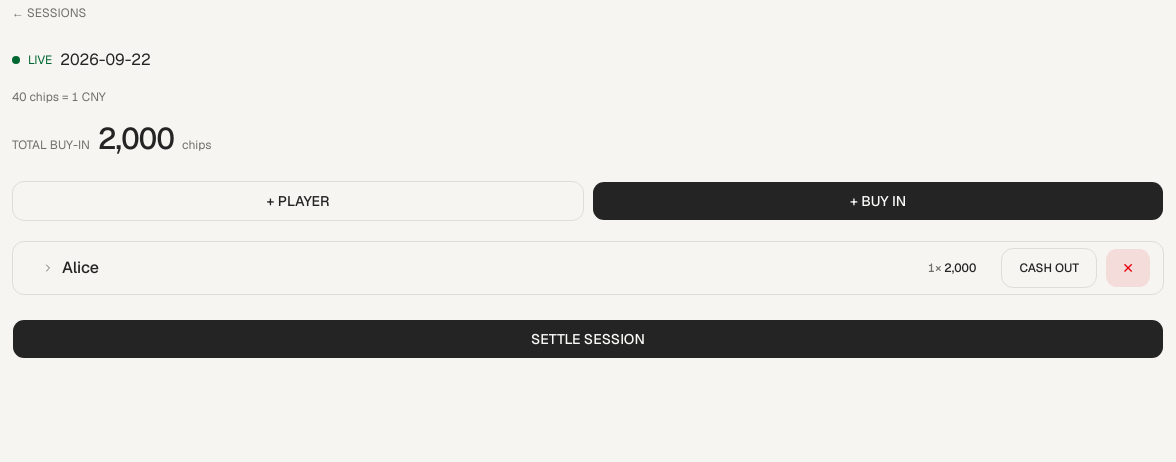
Test: refreshes after revocation and keeps recoverable errors in the page
Click the button named "Alice buy-in history": (81, 268) [25,248,993,288]
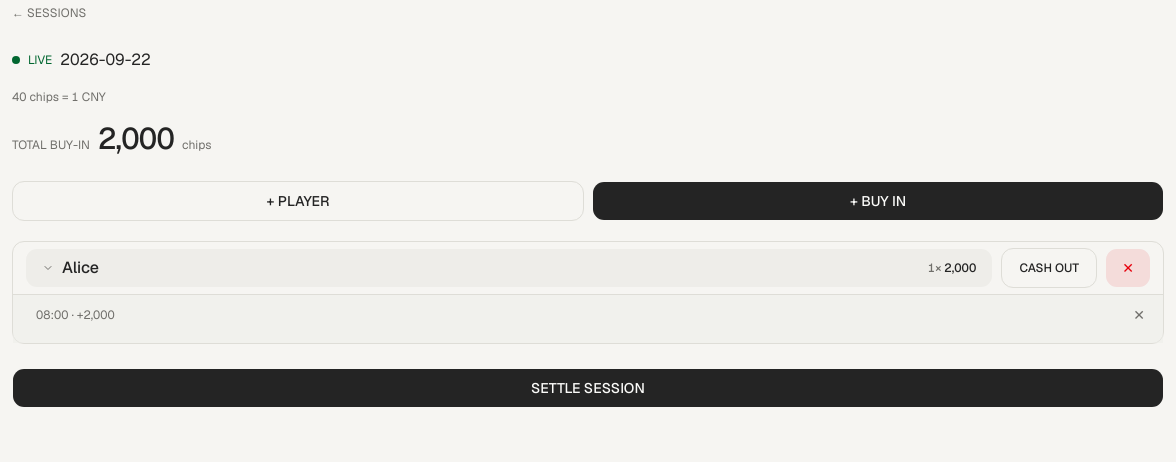
Click the button "✕" in the row of "08:00": (1139, 315) [1127,303,1151,327]
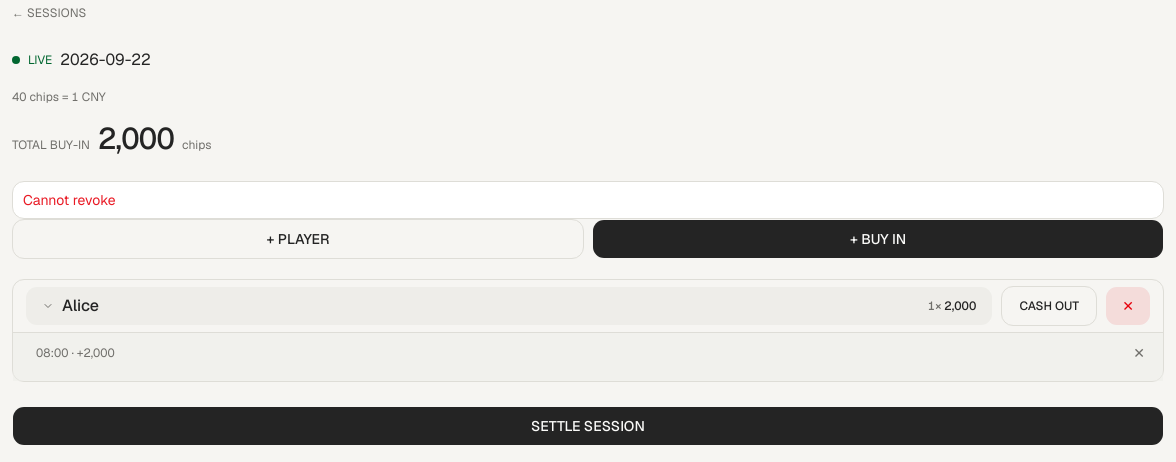
Result: the text "Cannot revoke" is shown at [23,191,116,209]
Click the button "✕" in the row of "08:00": (1139, 353) [1127,341,1151,365]
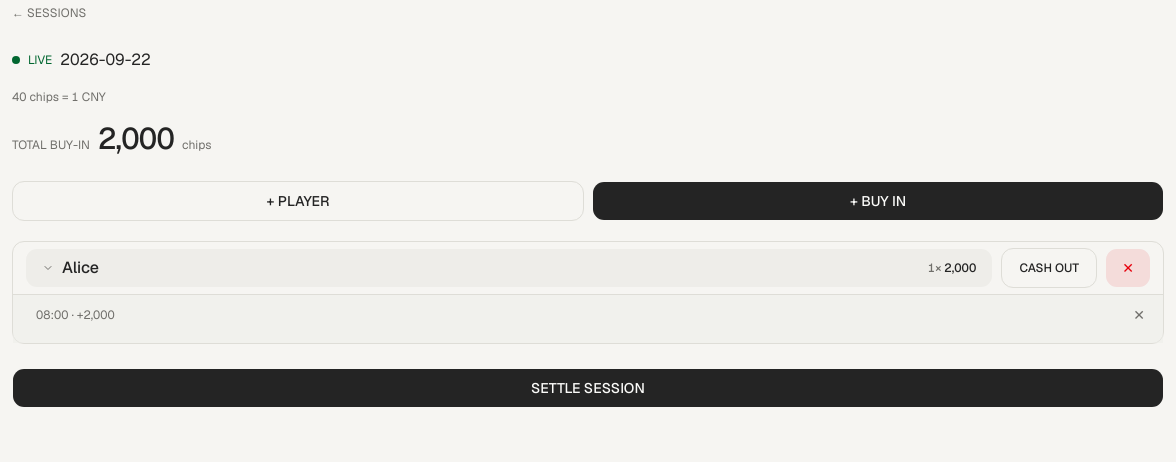
Result: the text "Cannot revoke" is gone
